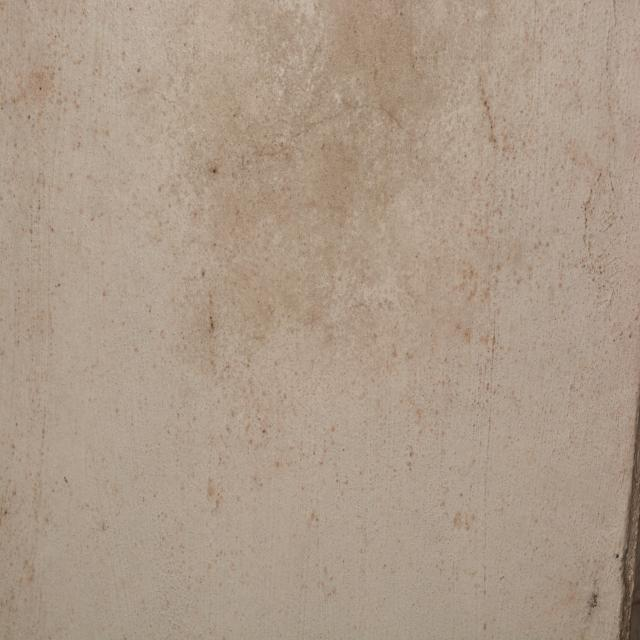horizontal crack: (251, 101, 416, 156)
